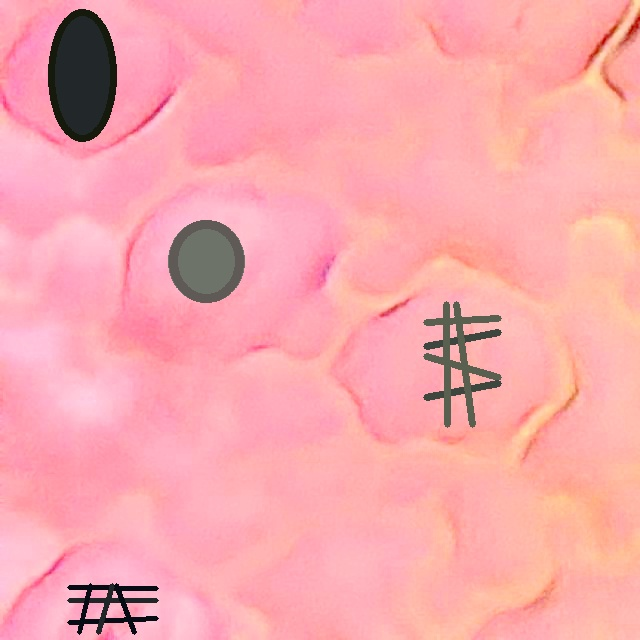close: (424, 301, 500, 427), (49, 8, 116, 142), (167, 220, 244, 302)
open: (67, 583, 158, 634)
